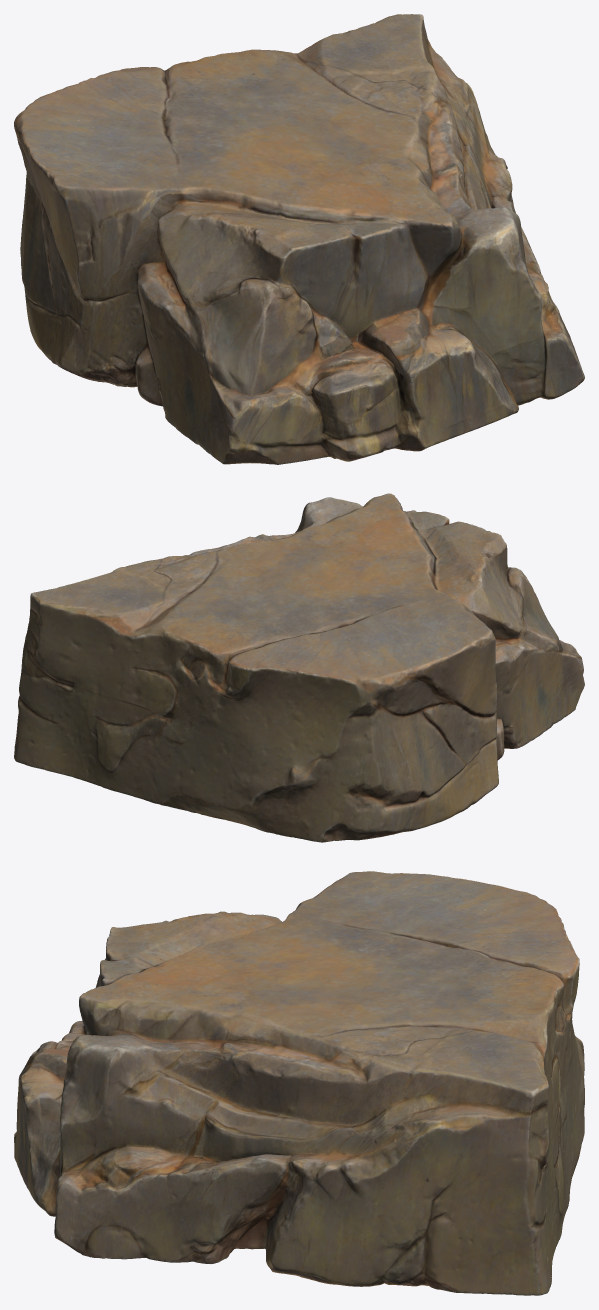
The model's file is Rock_Formation_1001.glb.
3 renders of one model, top to bottom at view 1: azimuth 30°, elevation 25°; view 2: azimuth 150°, elevation 25°; view 3: azimuth 270°, elevation 25°, orthographic. The views are drawn at different scales.
Bounding box in the file's own units: 1.82 × 0.7202 × 1.9.
1 material, 1 textured.
